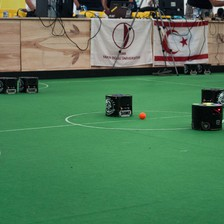ball: (138, 110, 147, 119)
robot: (189, 101, 224, 130), (103, 92, 134, 117), (17, 74, 40, 94), (200, 85, 224, 103), (1, 74, 19, 95), (181, 63, 198, 75), (199, 62, 213, 75)
